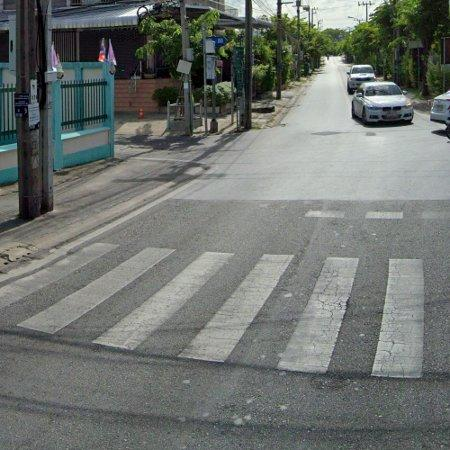crosswalks: (0, 240, 426, 382)
